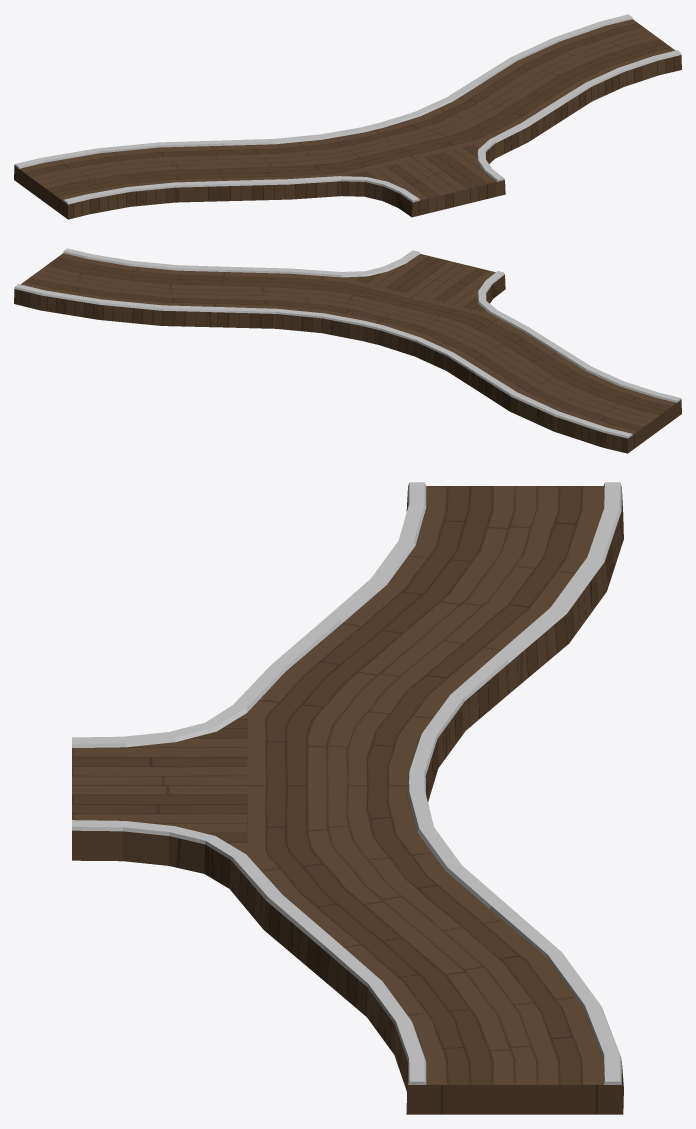
Rendered from SM_Env_Path_Curve_02.fbx.
3 renders of one model, top to bottom at view 1: azimuth 30°, elevation 25°; view 2: azimuth 150°, elevation 25°; view 3: azimuth 270°, elevation 25°, orthographic. The views are drawn at different scales.
Visible parts, largest first — view 1: SM_Env_Path_Curve_02; view 2: SM_Env_Path_Curve_02; view 3: SM_Env_Path_Curve_02.
Part boxes in pixels (bbox=[...]): SM_Env_Path_Curve_02: bbox=[14, 14, 681, 219]; SM_Env_Path_Curve_02: bbox=[14, 248, 681, 453]; SM_Env_Path_Curve_02: bbox=[72, 482, 623, 1114].
Size of the model in its own units: 2000 by 51.31 by 779.
